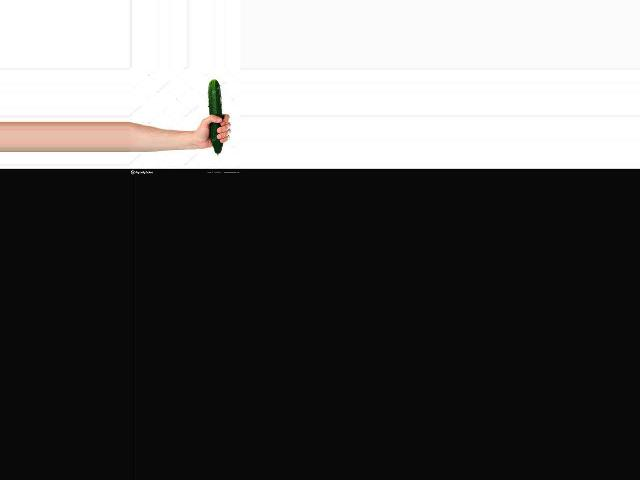cucumber: (208, 80, 223, 155)
